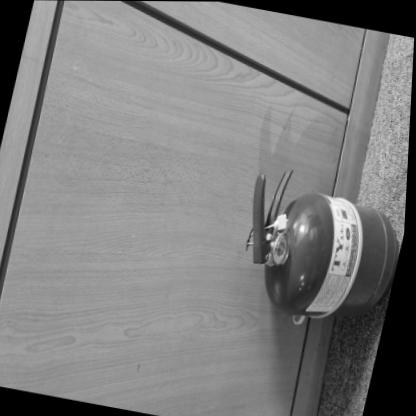FE: (228, 161, 409, 334)
